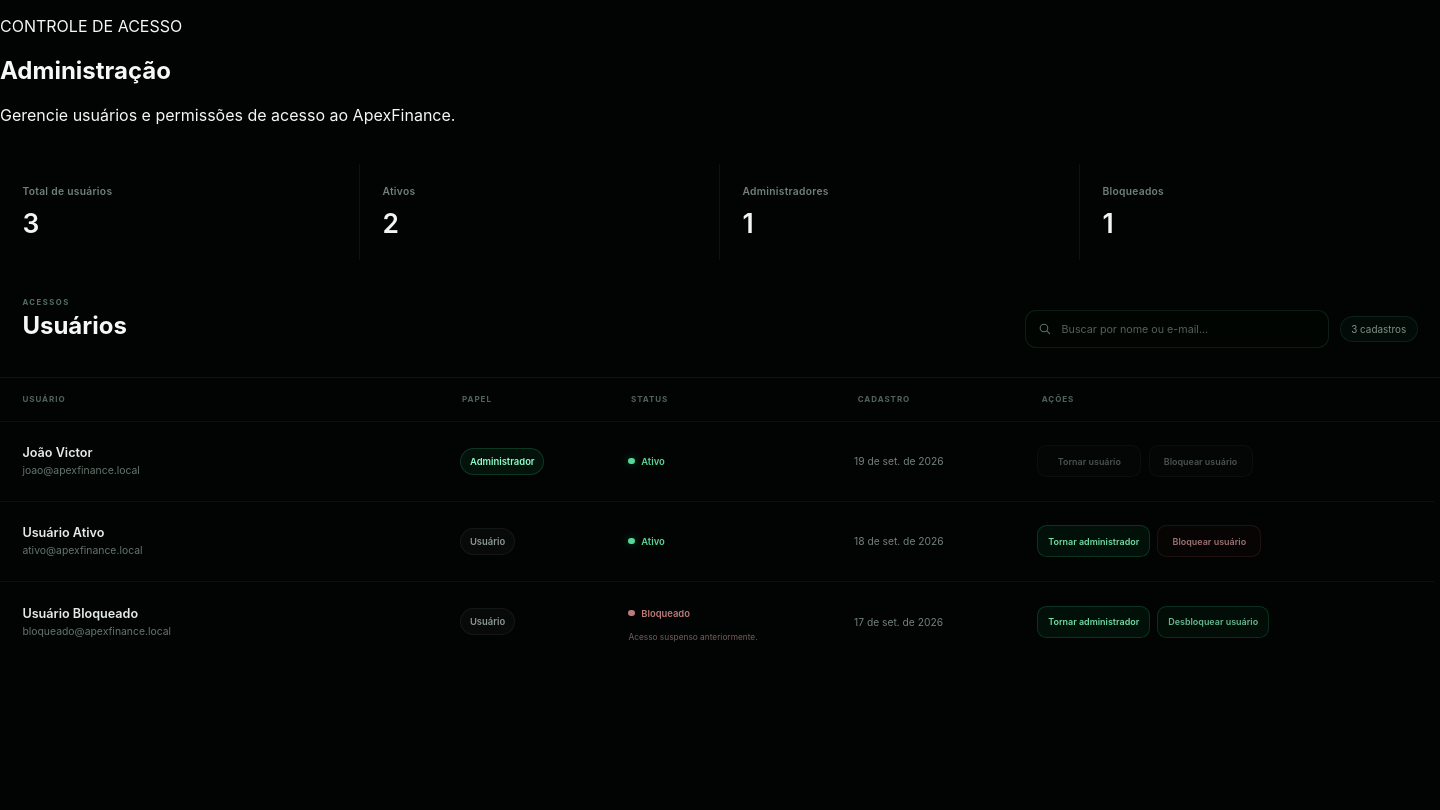
Test: Gerenciamento de status na Administração › abre o diálogo de bloqueio para um usuário ativo
Expected: the list item "Usuário Ativo" is shown, [22,525,104,540]
Click the button "Bloquear usuário" in the row of "ativo@apexfinance.local" at (1209, 541), box [1157,525,1261,557]
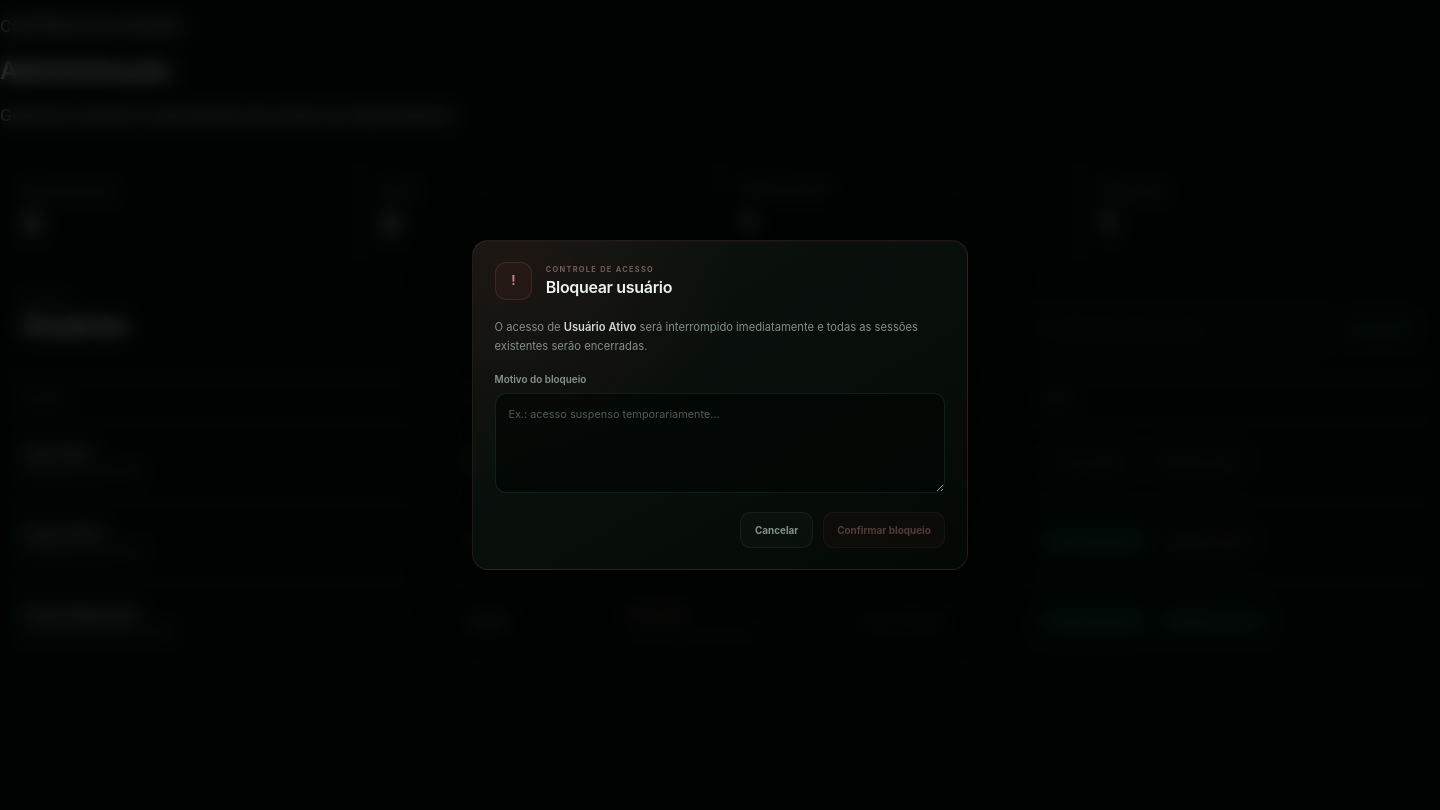
Expected: the dialog "Bloquear usuário" is shown, [472,240,968,570]
Expected: the text box labelled "Motivo do bloqueio" is shown, [495,394,945,493]
